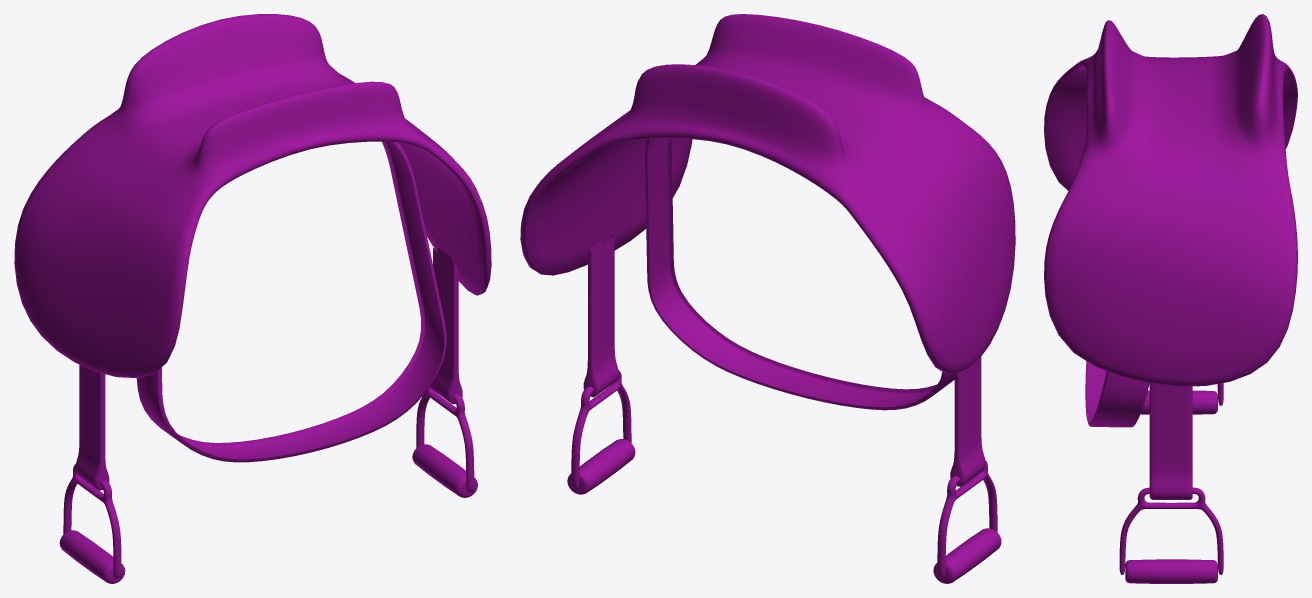
Rendered from SM_horse_sedlo.fbx.
3 renders of one model, left to right at view 1: azimuth 30°, elevation 25°; view 2: azimuth 150°, elevation 25°; view 3: azimuth 270°, elevation 25°, orthographic. The views are drawn at different scales.
Parts seen in each view (by area): view 1: SM_horse_sedlo; view 2: SM_horse_sedlo; view 3: SM_horse_sedlo.
Boxes of the visible parts, x1,y1,x2,y2 form: SM_horse_sedlo: (14, 14, 491, 583); SM_horse_sedlo: (520, 14, 1015, 583); SM_horse_sedlo: (1044, 14, 1297, 583).
Size of the model in its own units: 85.22 by 95.63 by 47.63.
